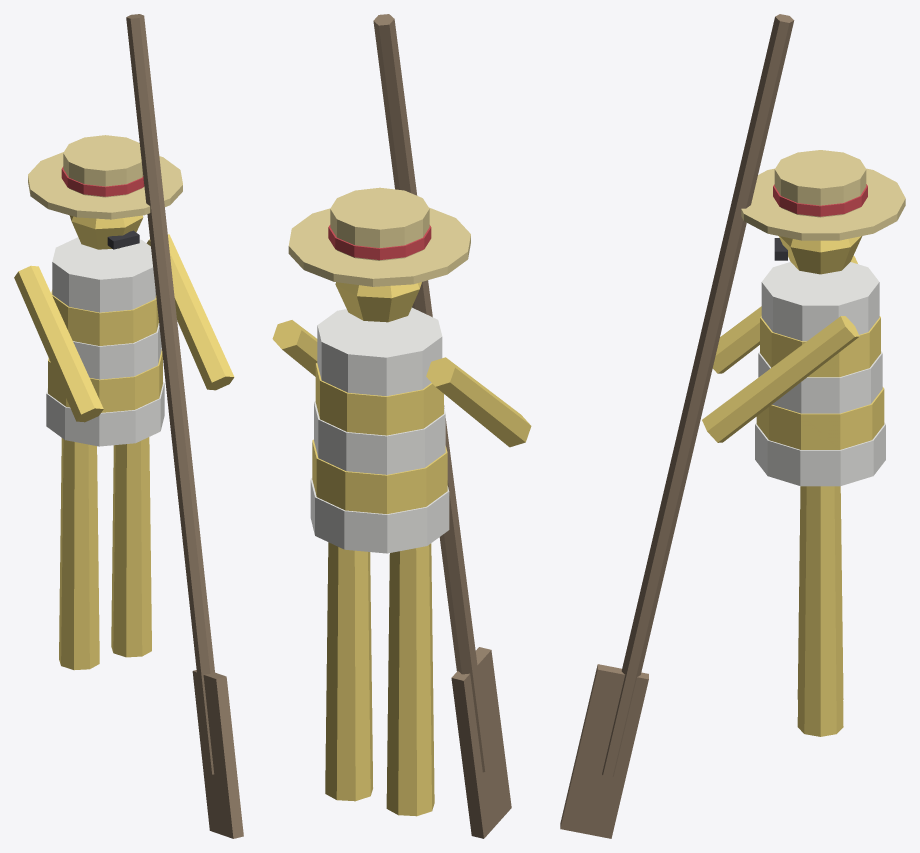
Rendered from VN_Gondolero.fbx.
The picture shows the model from 3 angles, left to right: view 1: azimuth 30°, elevation 25°; view 2: azimuth 150°, elevation 25°; view 3: azimuth 270°, elevation 25°; orthographic projection. The views are drawn at different scales.
Visible parts, largest first — view 1: VN_Gondolero; view 2: VN_Gondolero; view 3: VN_Gondolero.
Part boxes in pixels (x1,y1,x2,y2): VN_Gondolero: (14,14,243,838); VN_Gondolero: (272,14,531,838); VN_Gondolero: (560,14,905,838).
Bounding box in the file's own units: 0.5866 × 2.76 × 1.06.
